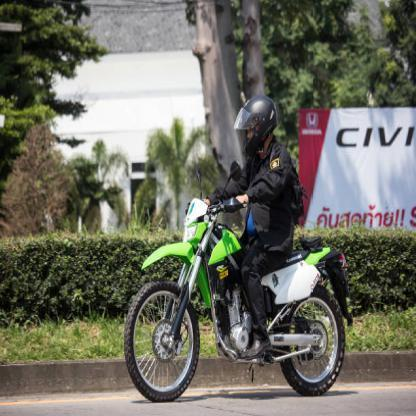Motorcycle: (119, 194, 348, 404)
